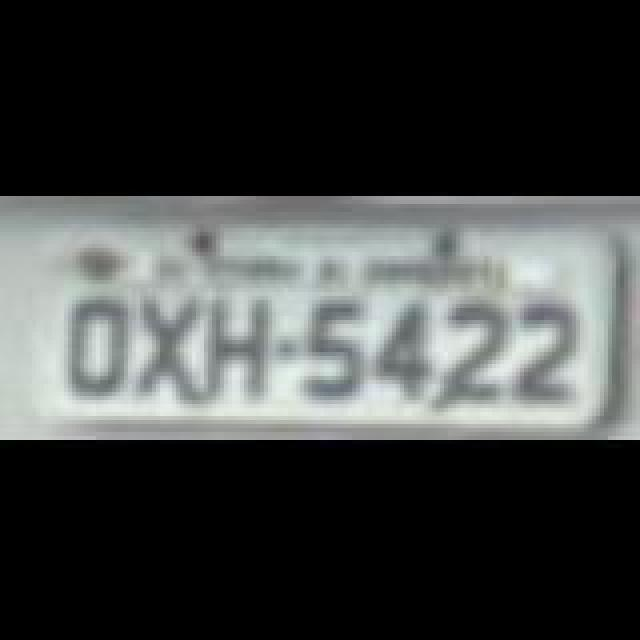2: (438, 296, 506, 408), (516, 296, 580, 408)
4: (378, 300, 438, 404)
5: (302, 302, 370, 402)
H: (206, 286, 266, 402)
O: (62, 292, 130, 404)
X: (142, 298, 194, 406)
